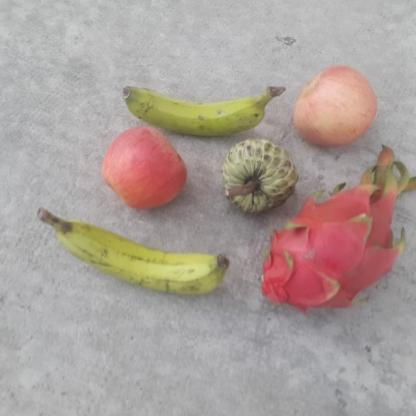annona: (216, 139, 296, 216)
apple: (99, 126, 188, 210), (292, 65, 379, 147)
banana: (64, 209, 233, 304), (122, 84, 288, 138)
pitaya: (258, 181, 404, 316)
